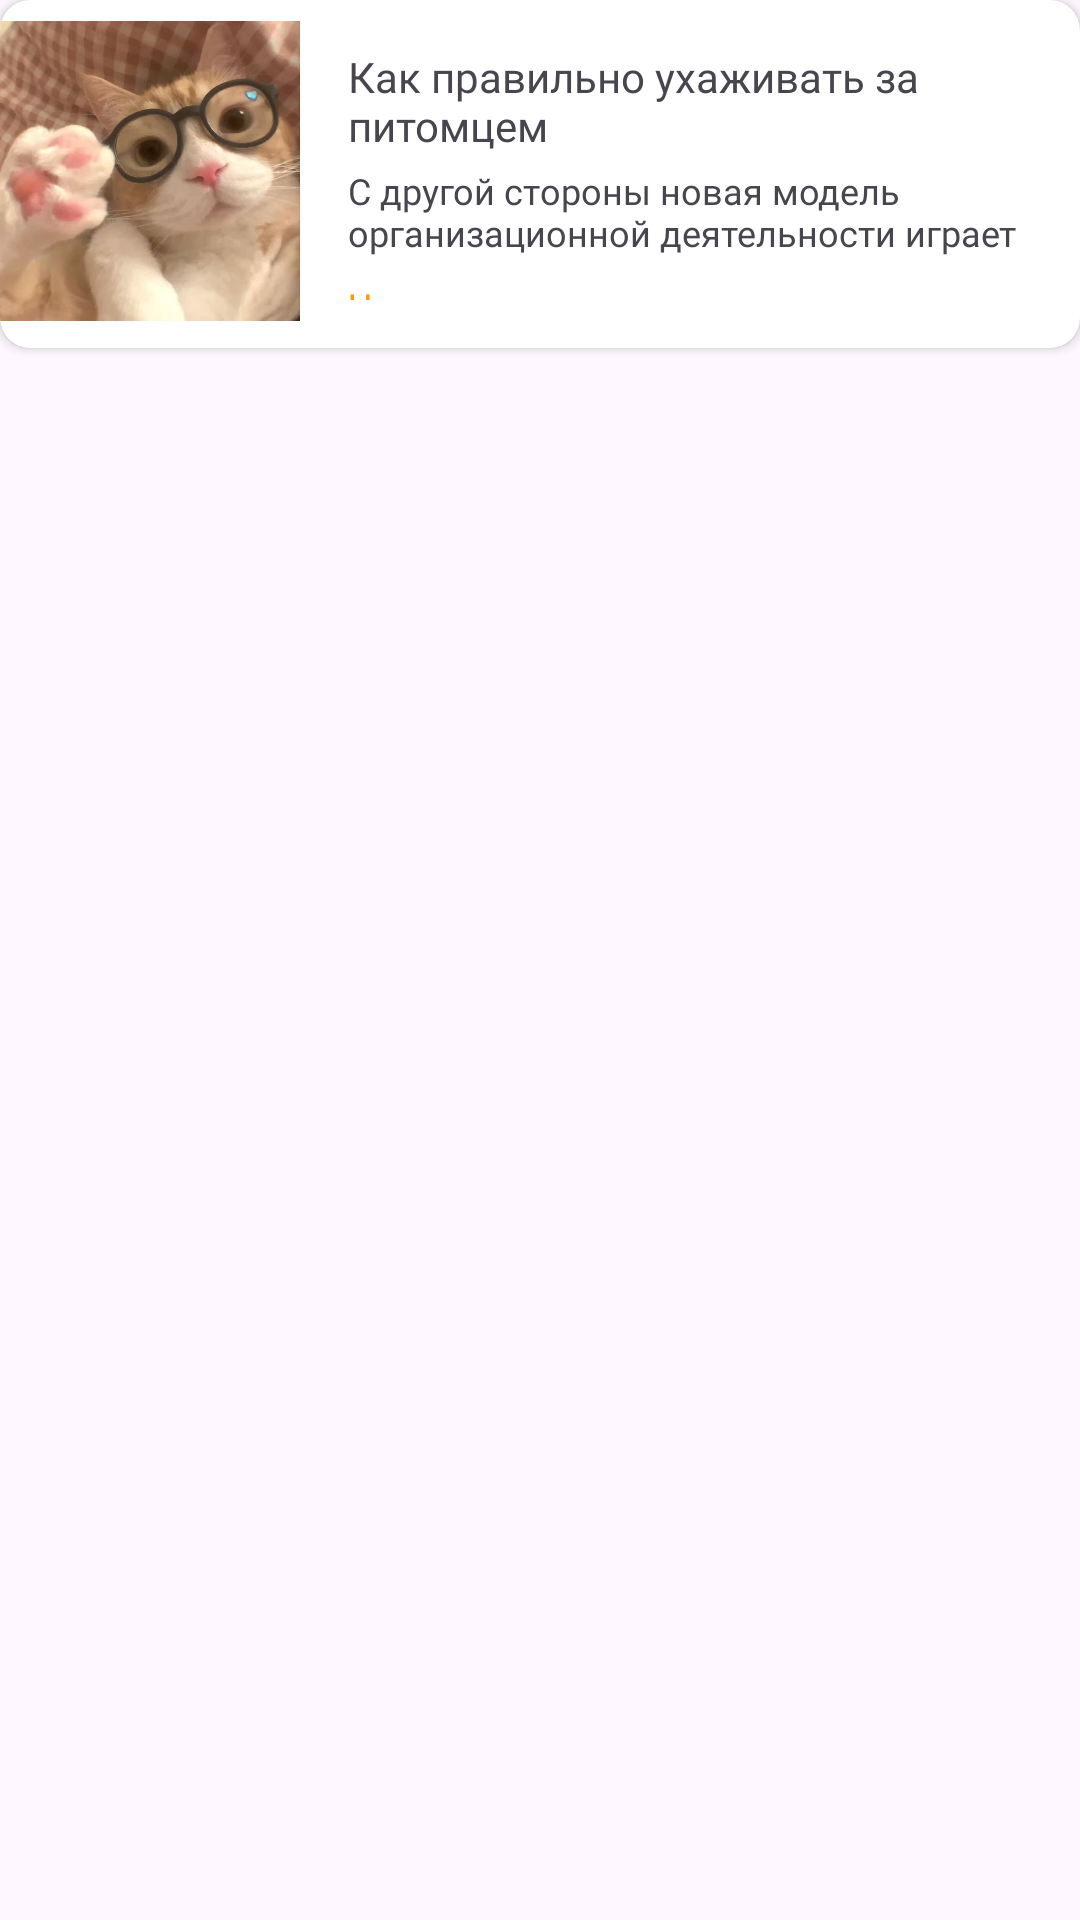

Screen size 1080x1920. Icon name, then its box in pixels as (x1, y1, x2, y2):
cat: (0, 0, 300, 321)
